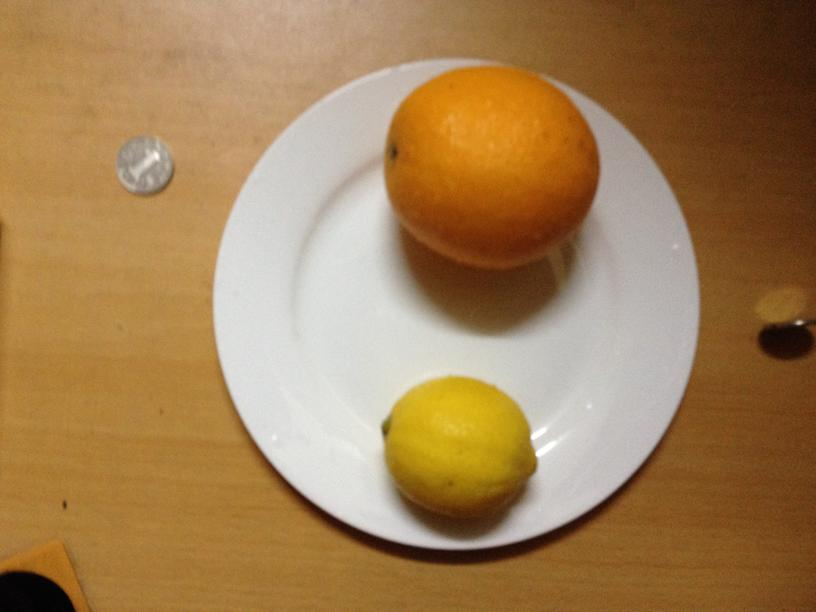coin: (116, 136, 174, 193)
lemon: (382, 376, 536, 515)
orange: (385, 64, 599, 269)
